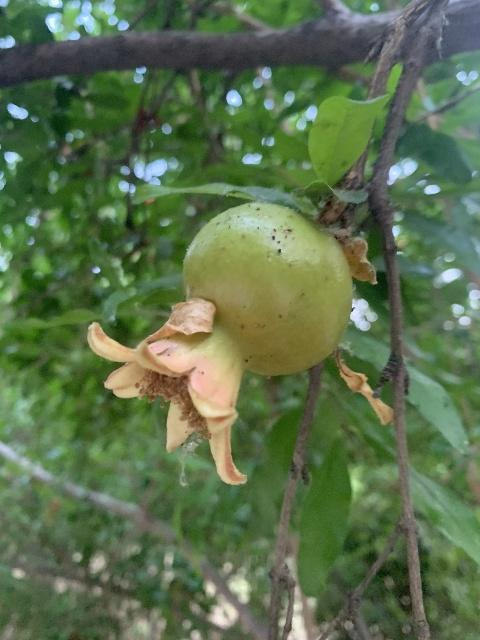mid-growth: (88, 200, 355, 484)
